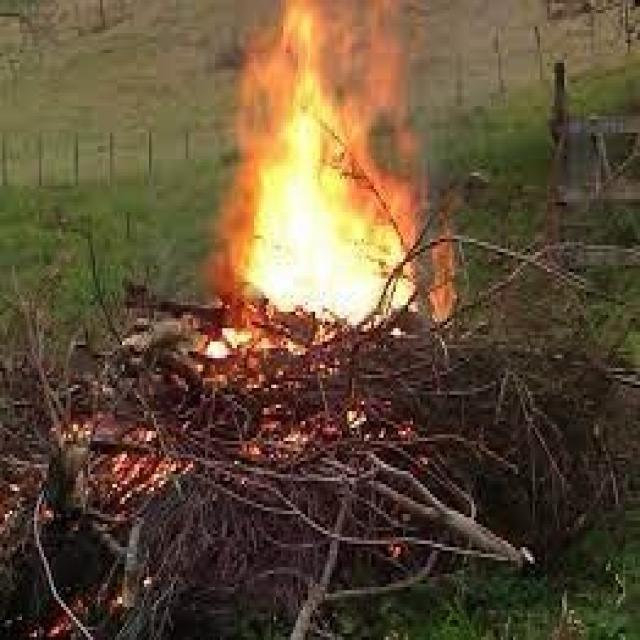Fire: (203, 1, 443, 341)
